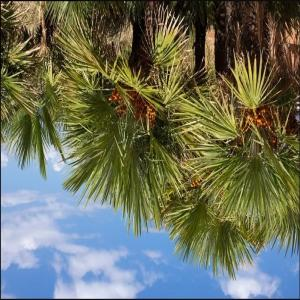palm tree: (1, 1, 299, 281)
